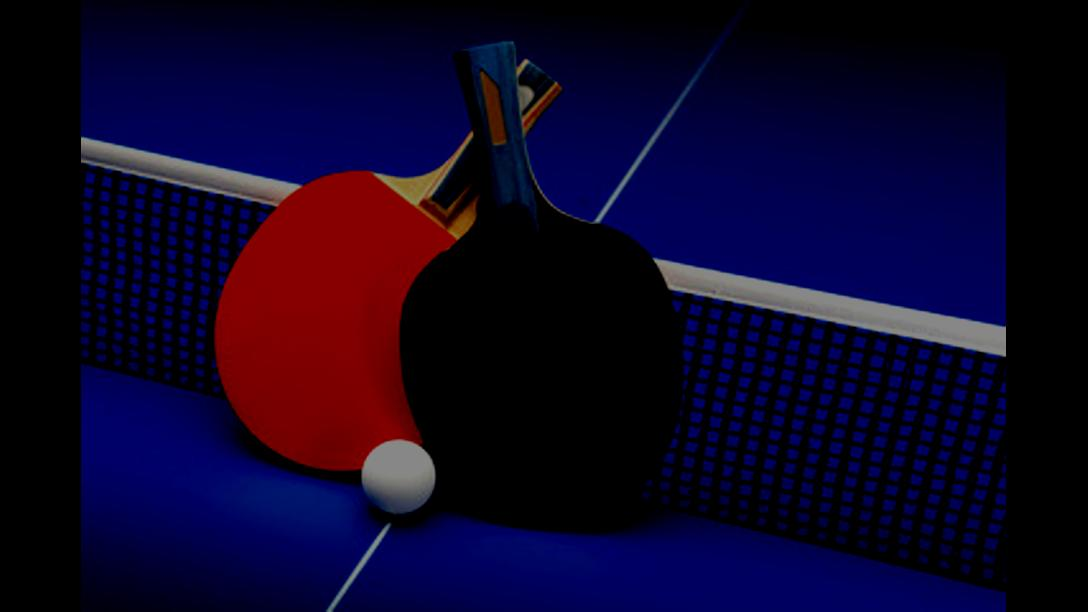Table-Tennis-Ball: (361, 440, 436, 514)
